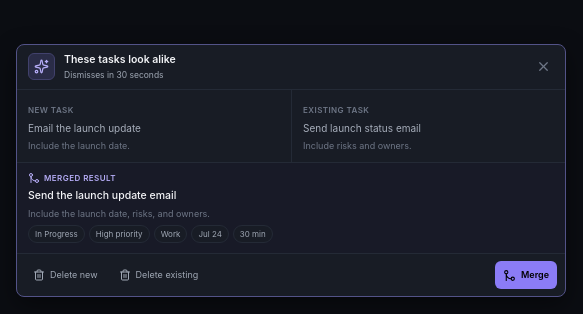
Test case: dedupe suggestion toast › shows the message from a serialized native resolution error
Click the button with aria-label "Merge tasks" at (526, 275), box [495,261,557,289]
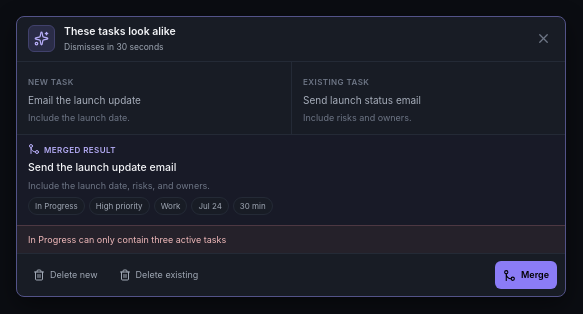
Expected: the message reads "In Progress can only contain three active tasks", [28,234,226,244]
